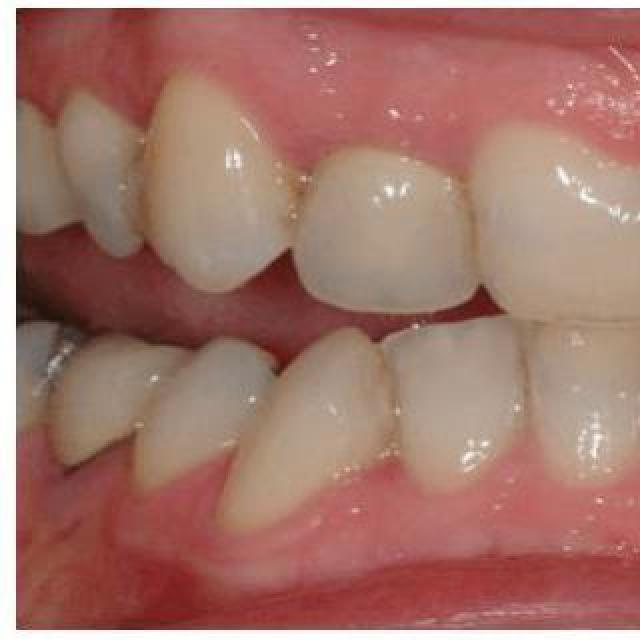plaque: (255, 150, 351, 262), (336, 350, 416, 476), (106, 140, 180, 236)
